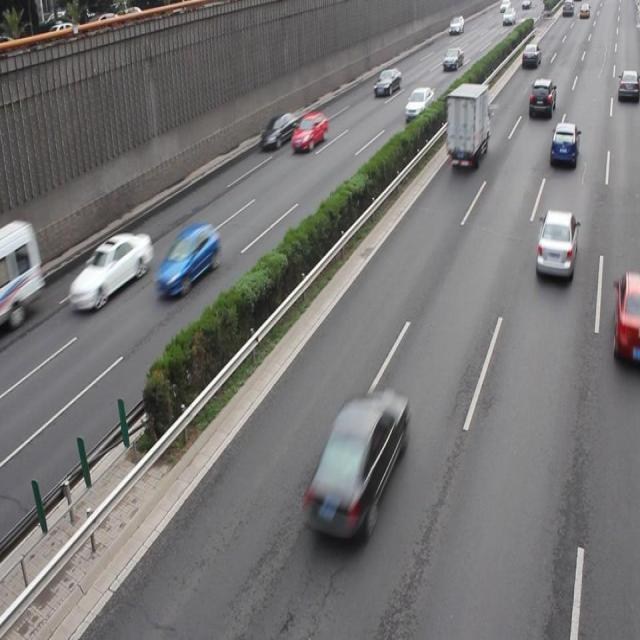bus: (444, 82, 488, 162)
car: (300, 391, 406, 546), (67, 231, 153, 312), (154, 225, 219, 298), (534, 208, 577, 281), (612, 270, 640, 364), (260, 111, 298, 152), (290, 110, 327, 151), (549, 120, 578, 170), (404, 85, 434, 120)
truck: (0, 222, 42, 324)
